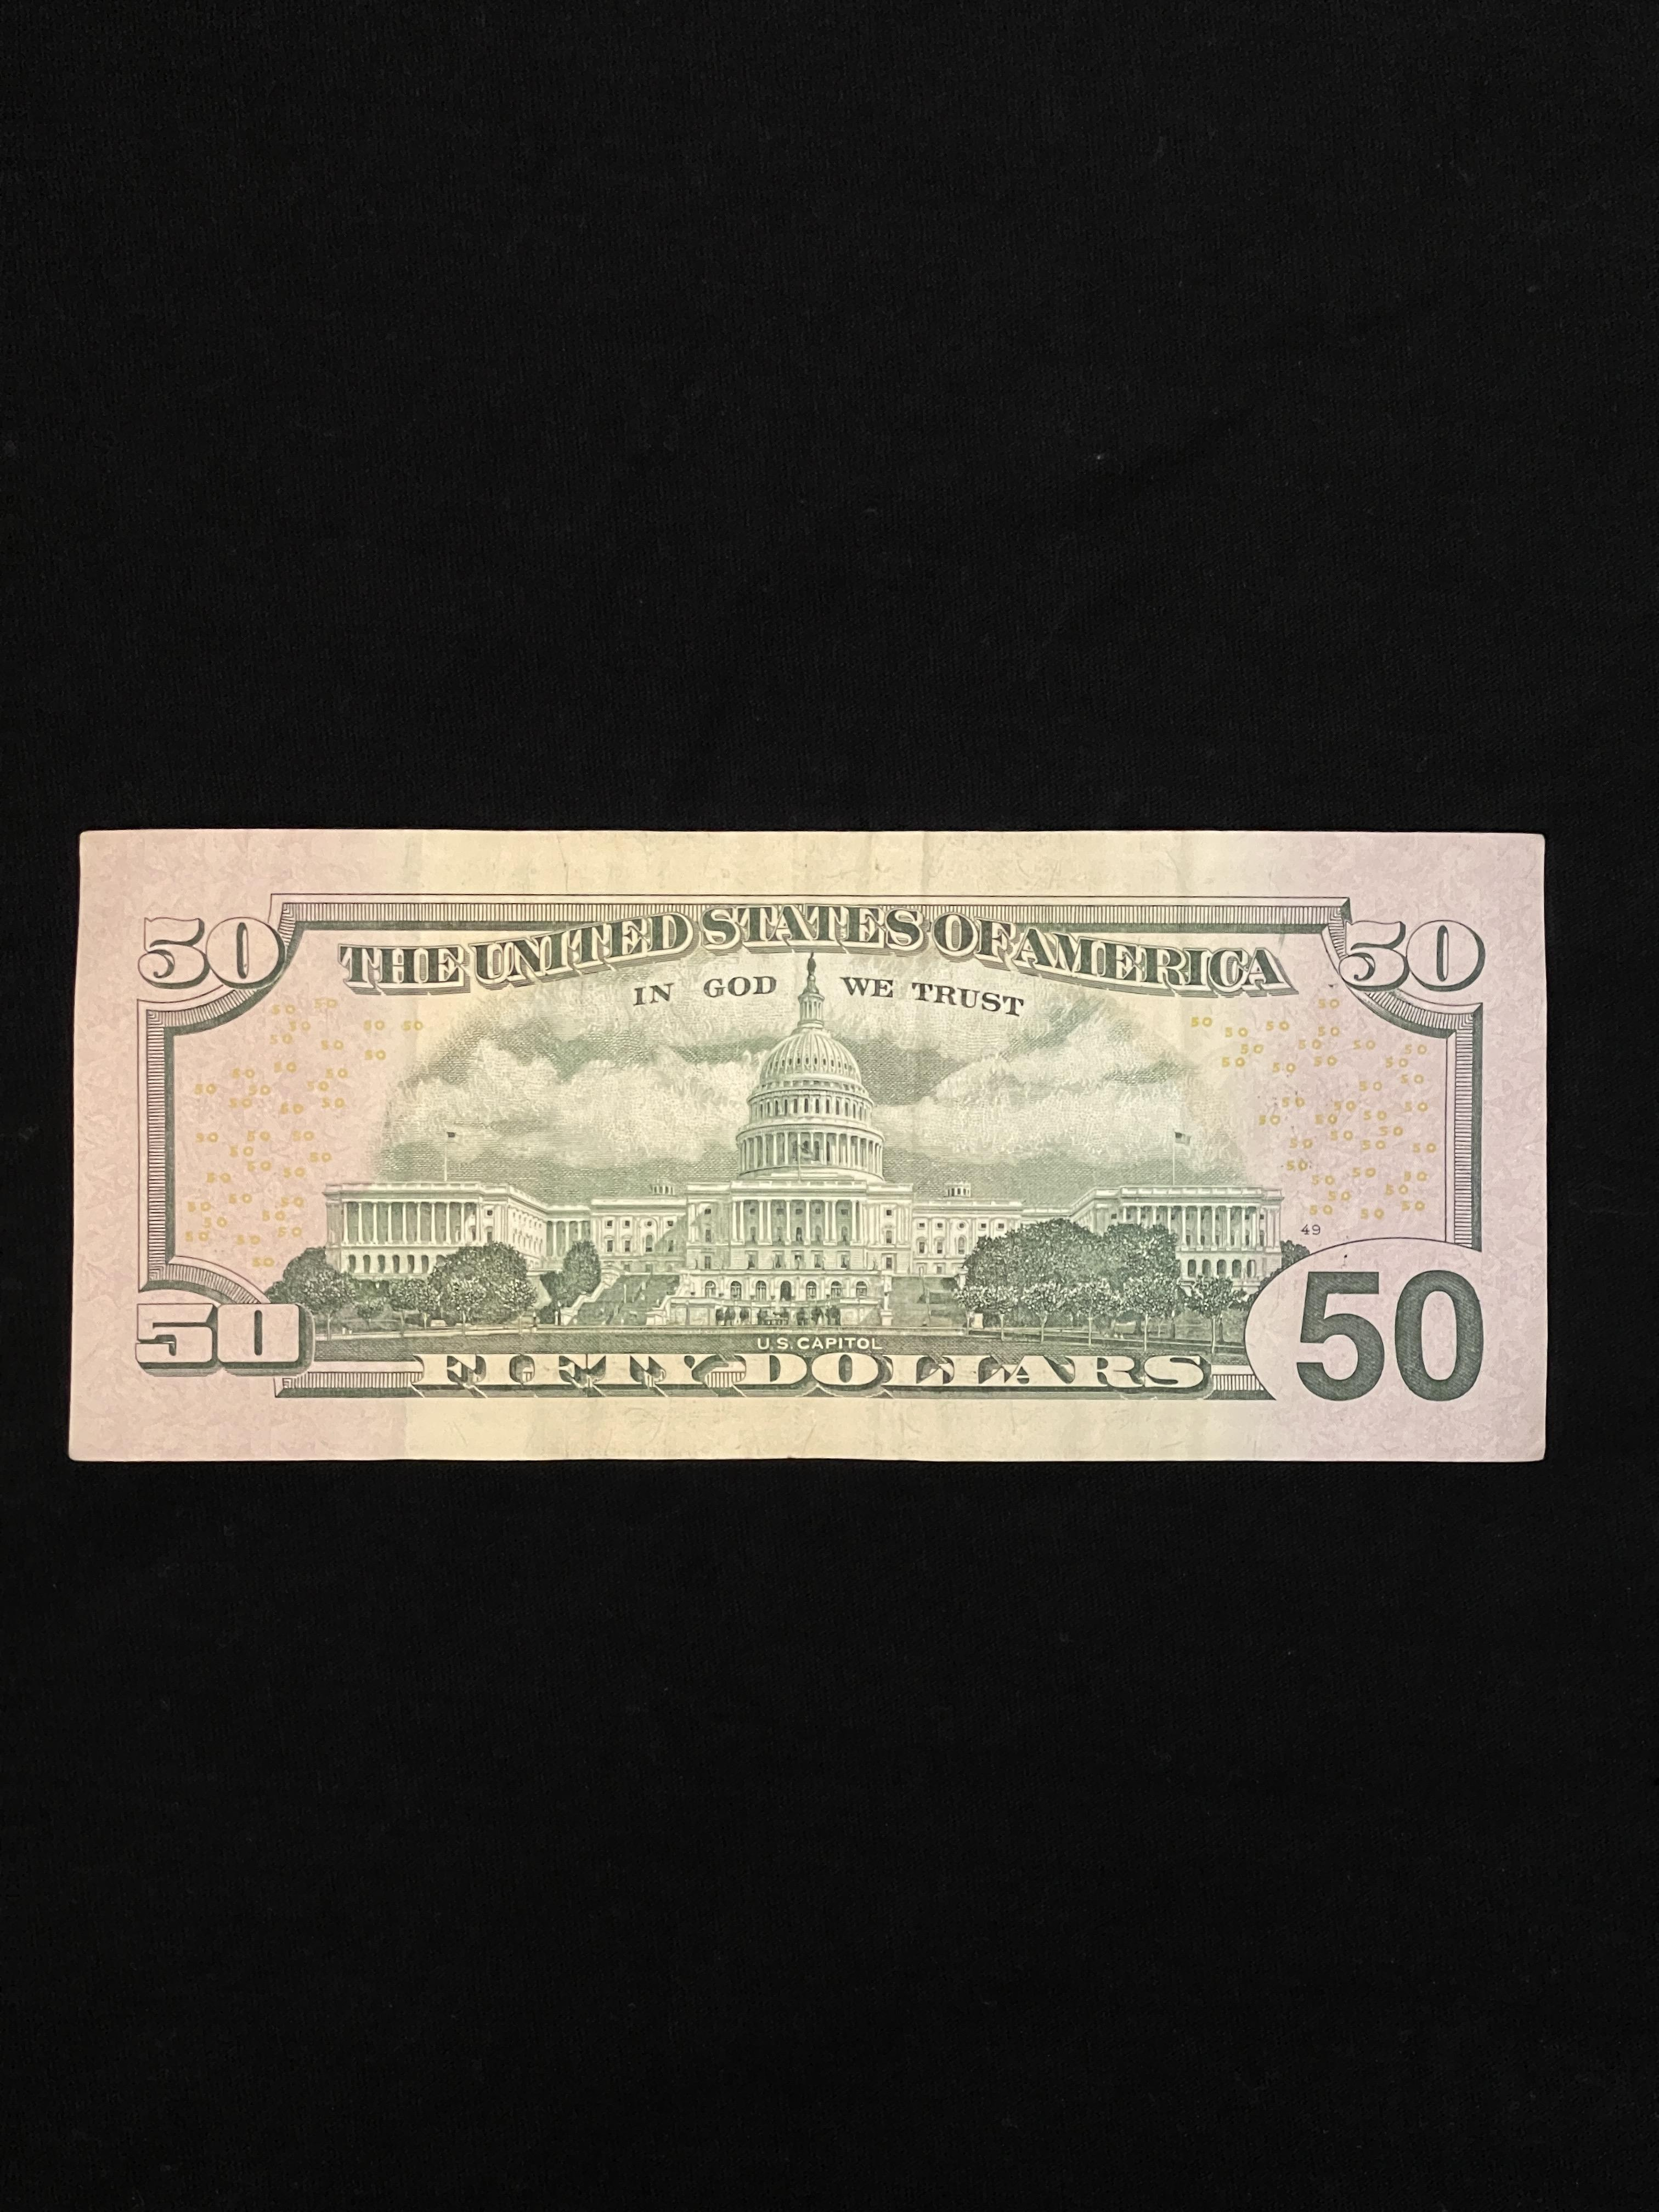FiftyBill: (61, 820, 1554, 1468)
